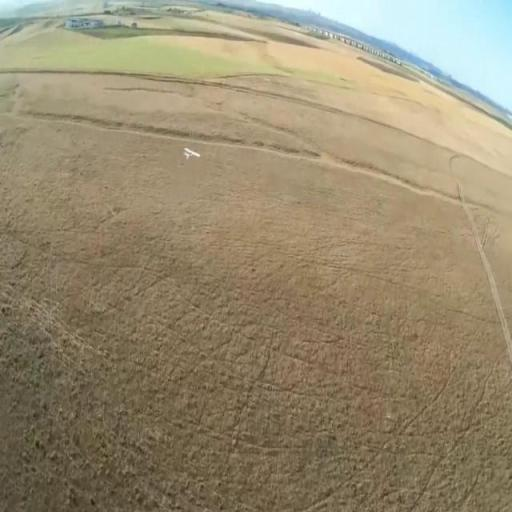uav: (184, 146, 200, 162)
